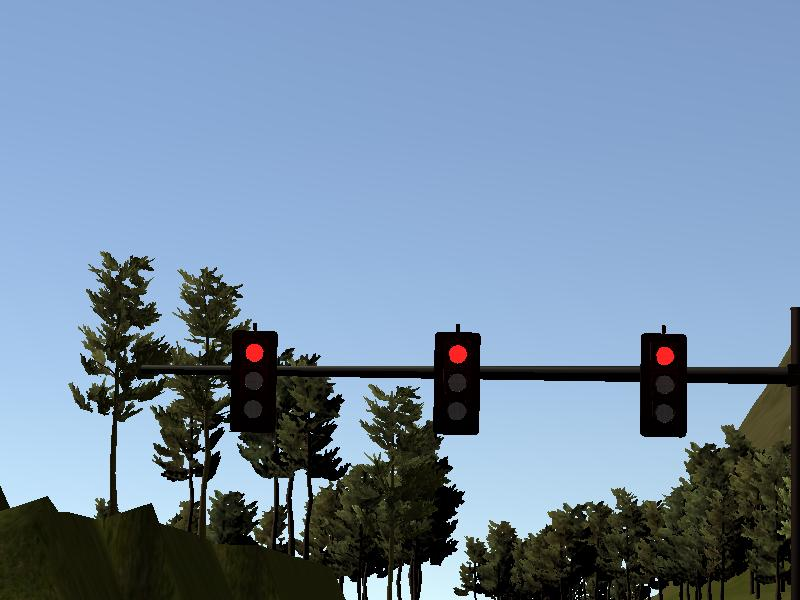red: (640, 332, 685, 438), (434, 330, 479, 434), (233, 331, 276, 433)
